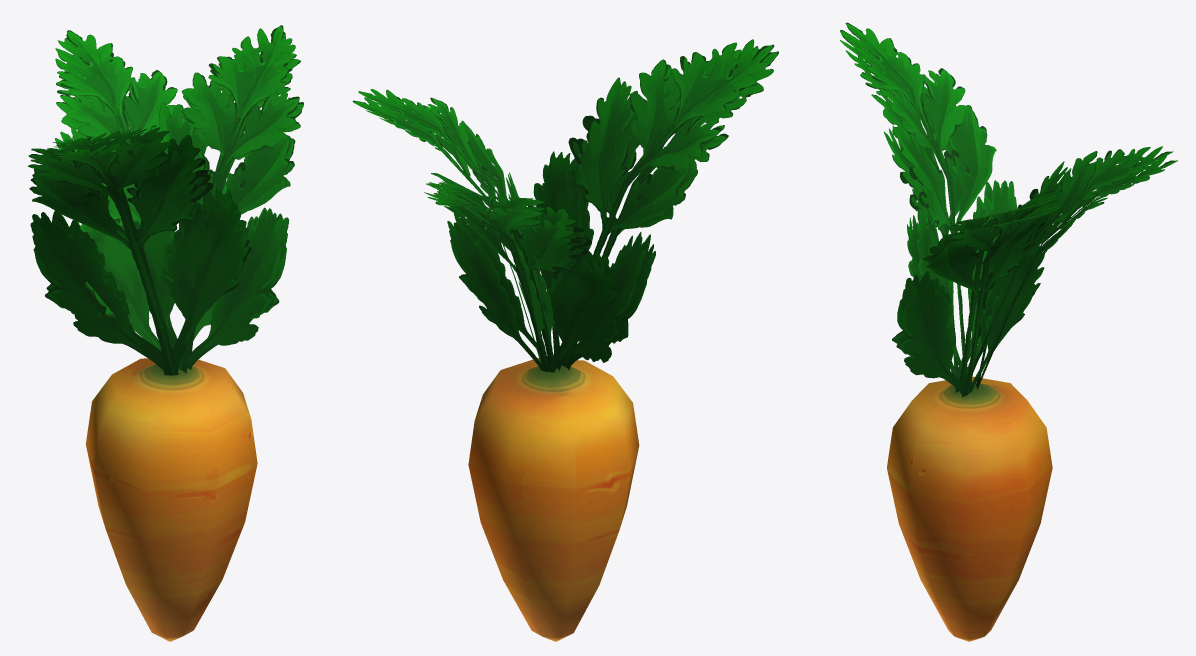
File: SE_Carrot_02.fbx
The picture shows the model from 3 angles, left to right: view 1: azimuth 30°, elevation 25°; view 2: azimuth 150°, elevation 25°; view 3: azimuth 270°, elevation 25°; orthographic projection. The views are drawn at different scales.
Parts seen in each view (by area): view 1: SE_Carrot_02; view 2: SE_Carrot_02; view 3: SE_Carrot_02.
Boxes of the visible parts, x1,y1,x2,y2 form: SE_Carrot_02: (28,25,303,641); SE_Carrot_02: (352,39,778,641); SE_Carrot_02: (840,22,1177,641).
Bounding box in the file's own units: 2.21 × 3.52 × 2.05.
